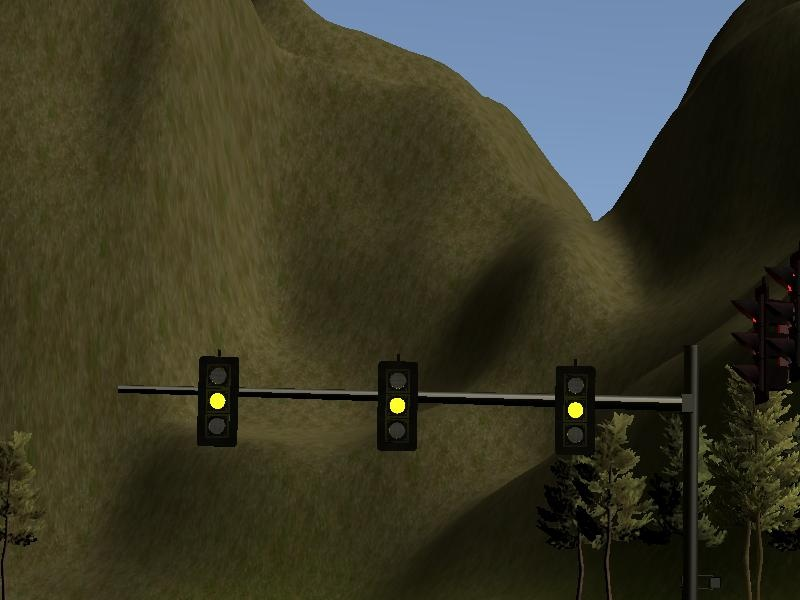yellow: (191, 347, 242, 453), (370, 354, 423, 455), (548, 360, 600, 462)
